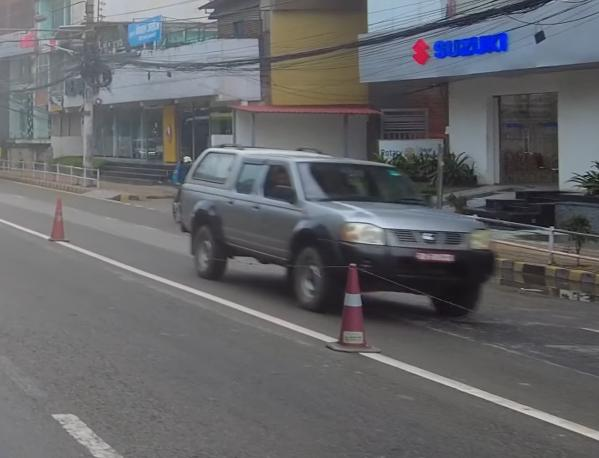SUV: (167, 142, 499, 330)
